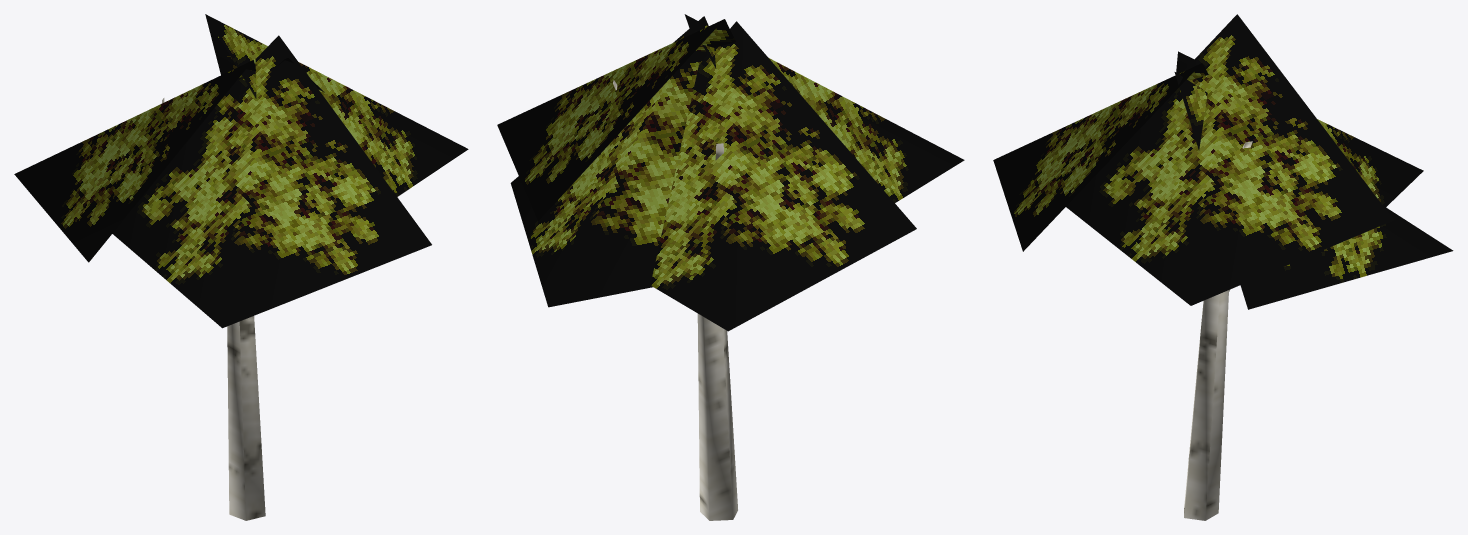
Rendered from birch_1.dae.
The picture shows the model from 3 angles, left to right: view 1: azimuth 30°, elevation 25°; view 2: azimuth 150°, elevation 25°; view 3: azimuth 270°, elevation 25°; orthographic projection. The views are drawn at different scales.
Parts seen in each view (by area): view 1: birch_1; view 2: birch_1; view 3: birch_1.
Part boxes in pixels (<box>): birch_1: <box>14,14,468,520</box>; birch_1: <box>497,14,964,520</box>; birch_1: <box>993,14,1453,520</box>.
Size of the model in its own units: 3.72 by 3.83 by 4.48.
2 materials, 2 textured.
